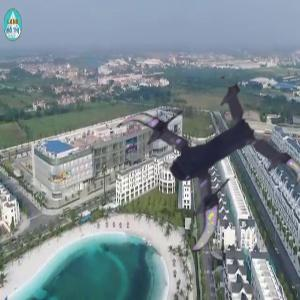drone: (115, 76, 288, 249)
